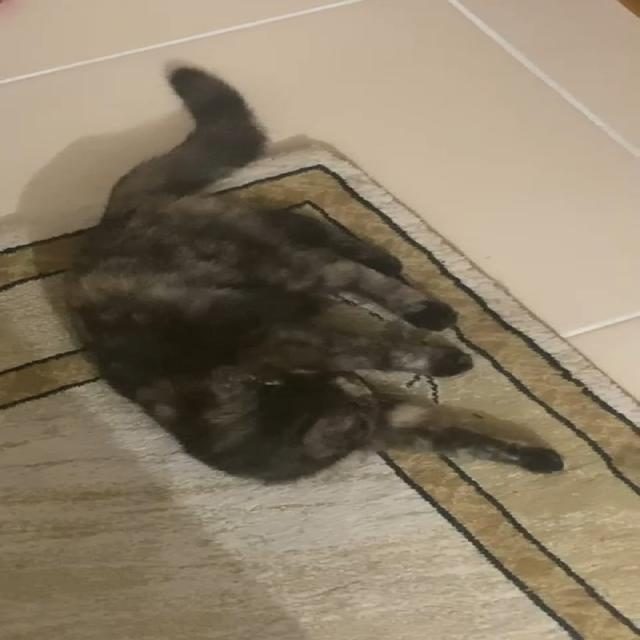authorized: (59, 63, 564, 485)
